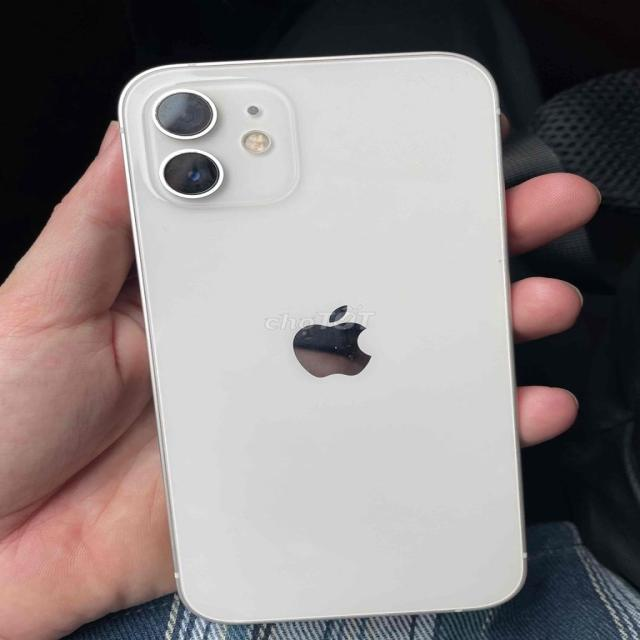scratch: (264, 285, 385, 401)
